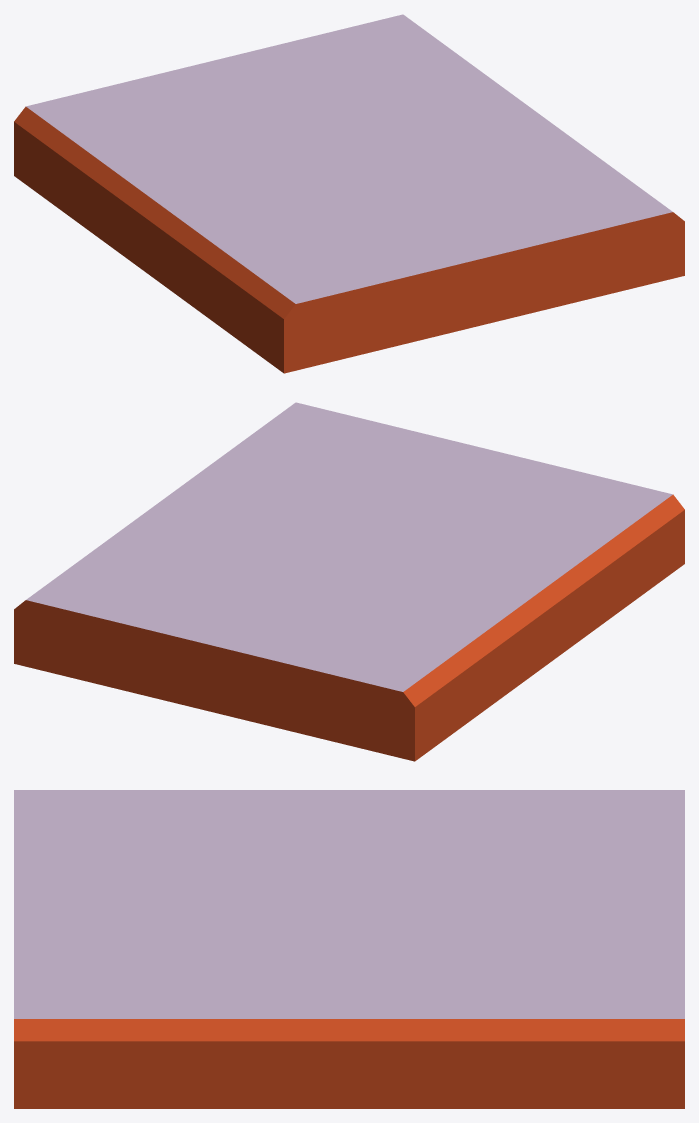
File: bridge.fbx
3 renders of one model, top to bottom at view 1: azimuth 30°, elevation 25°; view 2: azimuth 150°, elevation 25°; view 3: azimuth 270°, elevation 25°, orthographic. The views are drawn at different scales.
Visible parts, largest first — view 1: floor.002; view 2: floor.002; view 3: floor.002.
Part boxes in pixels (<box>): floor.002: <box>14,14,684,373</box>; floor.002: <box>14,402,684,761</box>; floor.002: <box>14,790,684,1108</box>.
Bounding box in the file's own units: 4.83 × 0.7671 × 5.64.
